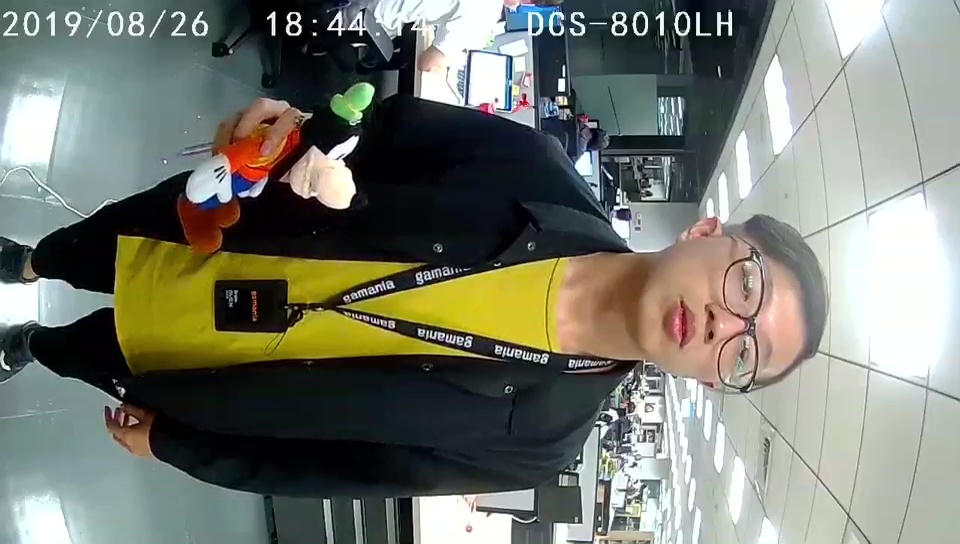goofy: (179, 75, 374, 256)
